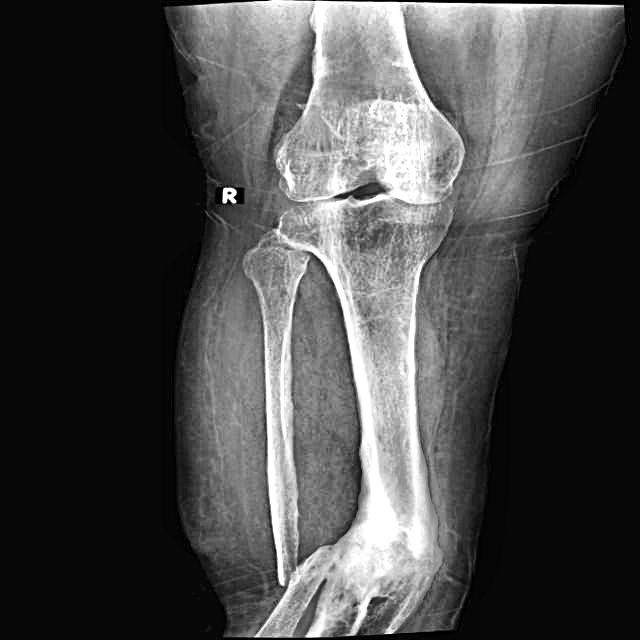Oblique: (244, 514, 352, 618)
